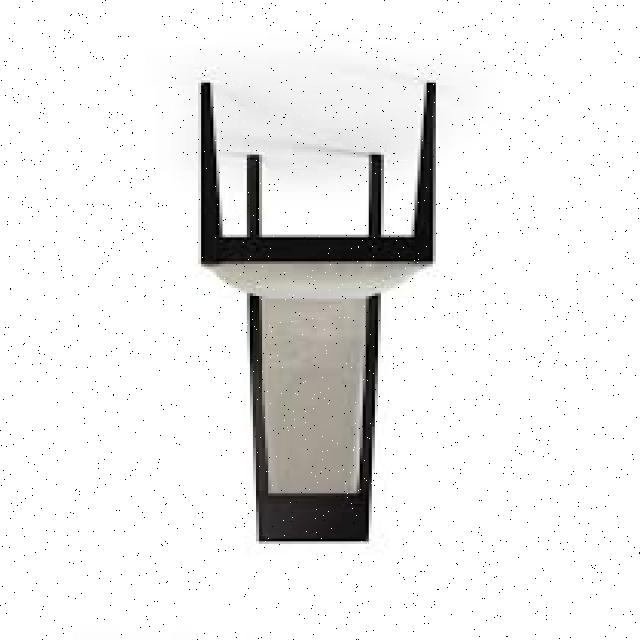bottle: (196, 78, 440, 548)
